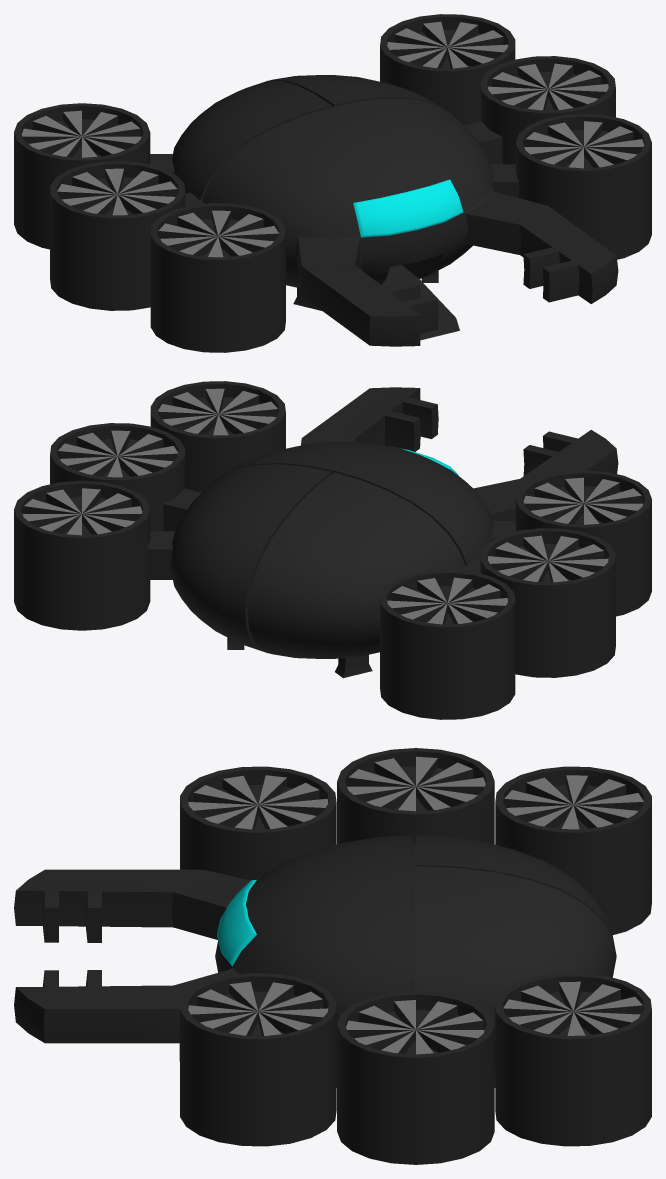
Rendered from stagship 1.fbx.
3 renders of one model, top to bottom at view 1: azimuth 30°, elevation 25°; view 2: azimuth 150°, elevation 25°; view 3: azimuth 270°, elevation 25°, orthographic. The views are drawn at different scales.
Visible parts, largest first — view 1: polySurface1, pCylinder5, pCylinder4, pCylinder2, pCylinder6, pCylinder3, pCylinder1; view 2: polySurface1, pCylinder3, pCylinder6, pCylinder4, pCylinder5, pCylinder2, pCylinder1, pCube4; view 3: polySurface1, pCylinder1, pCylinder3, pCylinder2, pCylinder6, pCylinder5, pCylinder4.
Part boxes in pixels (x1,y1,x2,y2): polySurface1: (172,75,618,346); pCylinder5: (150,203,285,352); pCylinder4: (50,161,204,310); pCylinder2: (491,113,651,259); pCylinder6: (14,103,174,249); pCylinder3: (380,14,515,125); pCylinder1: (464,56,615,164); polySurface1: (170,387,618,658); pCylinder3: (14,480,174,630); pCylinder6: (380,570,515,719); pCylinder4: (461,528,615,677); pCylinder5: (491,470,651,616); pCylinder2: (150,381,285,492); pCylinder1: (50,423,201,531); pCube4: (335,654,372,678); polySurface1: (14,834,616,1067); pCylinder1: (337,991,494,1164); pCylinder3: (495,973,651,1146); pCylinder2: (180,973,336,1146); pCylinder6: (495,766,651,934); pCylinder5: (180,766,336,880); pCylinder4: (337,748,494,844).
Size of the model in its own units: 1860 by 509 by 1619.
